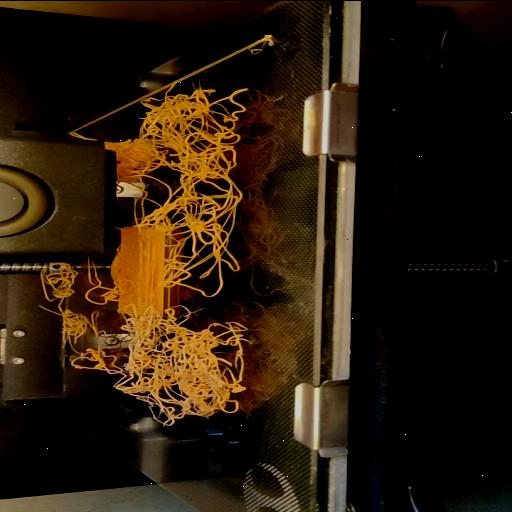spaghetti: (111, 80, 258, 424), (29, 258, 113, 372), (64, 128, 98, 138)
